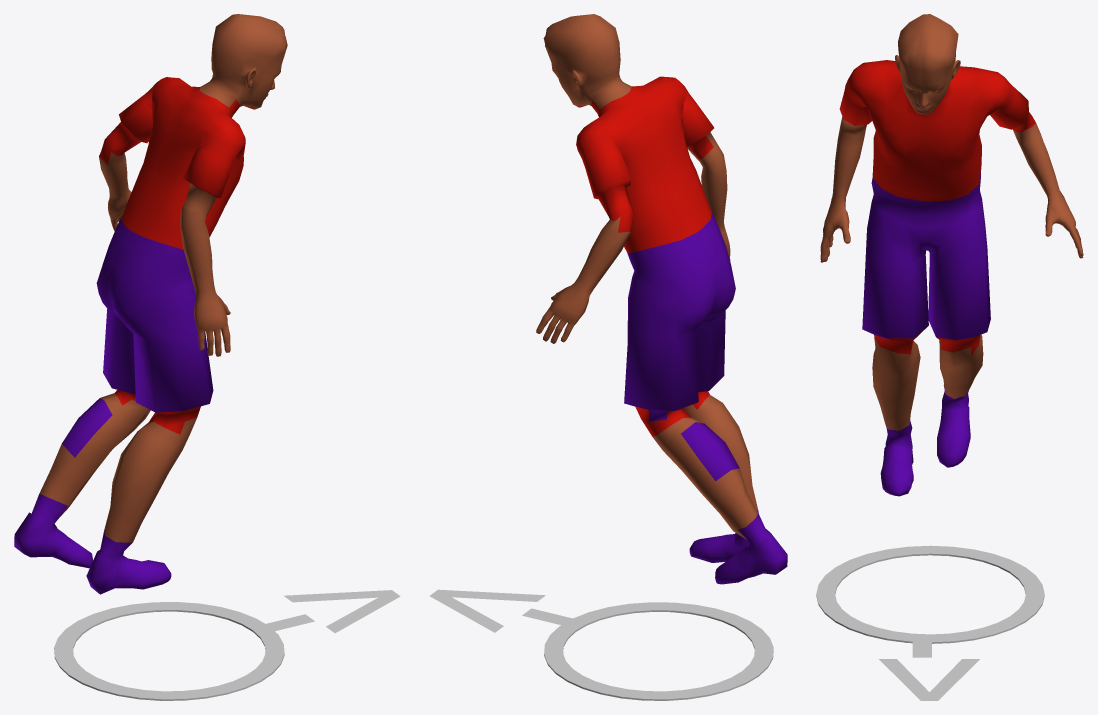
Rendered from player_000005.obj.
3 renders of one model, left to right at view 1: azimuth 30°, elevation 25°; view 2: azimuth 150°, elevation 25°; view 3: azimuth 270°, elevation 25°, orthographic.
Parts seen in each view (by area): view 1: soccerplayer.002_mesh.003, Circle, Text.001_Mesh.001; view 2: soccerplayer.002_mesh.003, Circle, Text.001_Mesh.001; view 3: soccerplayer.002_mesh.003, Circle, Text.001_Mesh.001.
Part boxes in pixels (bbox=[...]): soccerplayer.002_mesh.003: bbox=[14, 14, 287, 594]; Circle: bbox=[54, 602, 284, 700]; Text.001_Mesh.001: bbox=[261, 590, 400, 633]; soccerplayer.002_mesh.003: bbox=[536, 14, 787, 584]; Circle: bbox=[544, 602, 773, 700]; Text.001_Mesh.001: bbox=[429, 589, 575, 632]; soccerplayer.002_mesh.003: bbox=[820, 14, 1083, 496]; Circle: bbox=[816, 545, 1044, 643]; Text.001_Mesh.001: bbox=[879, 636, 979, 700].
Size of the model in its own units: 1.98 by 3.23 by 1.27.
